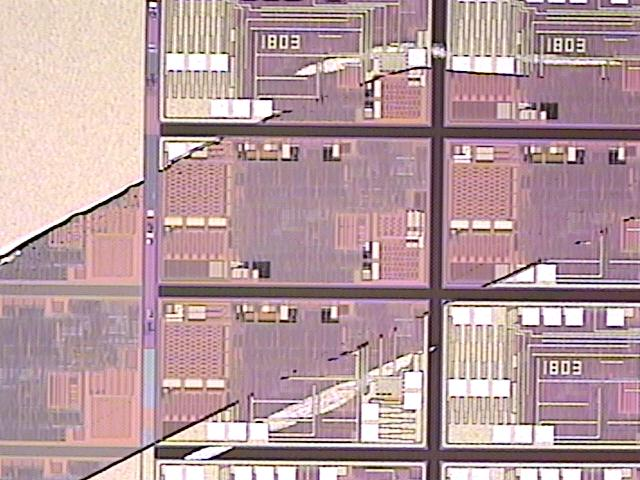COATING BAD: (2, 66, 640, 480)
